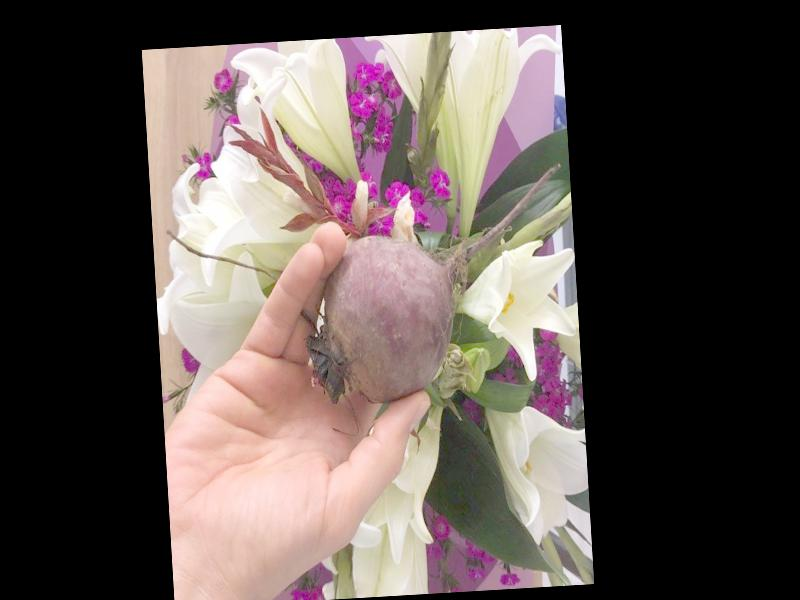Beet: (298, 162, 571, 406)
